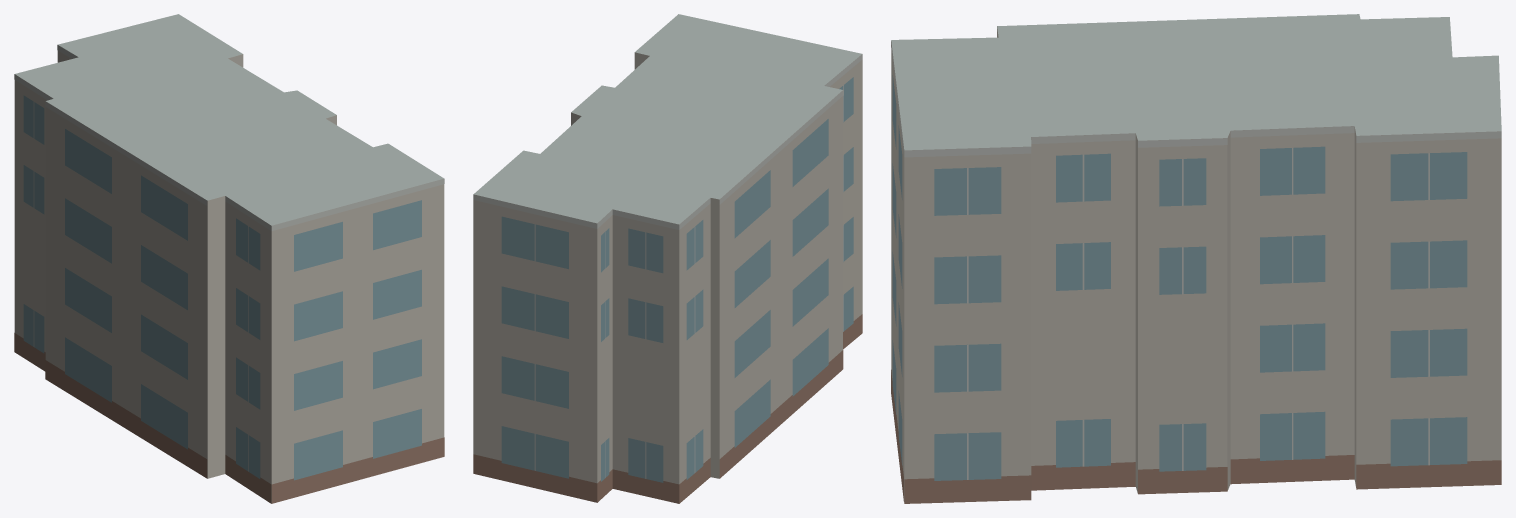
The model's file is survey-upis-32627107.glb.
The picture shows the model from 3 angles, left to right: view 1: azimuth 30°, elevation 25°; view 2: azimuth 150°, elevation 25°; view 3: azimuth 270°, elevation 25°; orthographic projection. The views are drawn at different scales.
Visible parts, largest first — view 1: survey-upis-32627107.tmp; view 2: survey-upis-32627107.tmp; view 3: survey-upis-32627107.tmp.
Part boxes in pixels (x1,y1,x2,y2): survey-upis-32627107.tmp: (14, 14, 444, 503); survey-upis-32627107.tmp: (473, 14, 862, 503); survey-upis-32627107.tmp: (891, 14, 1501, 503).
Bounding box in the file's own units: 10.1 × 12.2 × 19.11.
